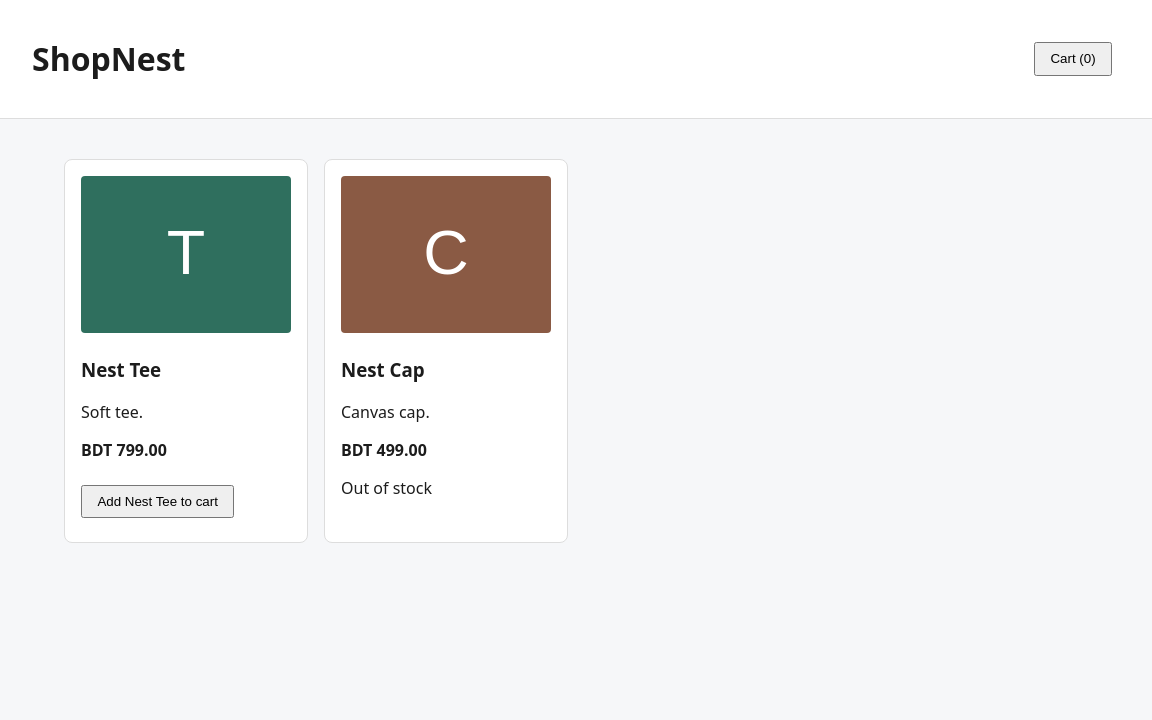
Scenario: cart and checkout flow › updates the cart count and shows the total
Click the button "Add Nest Tee to cart" at x=158, y=502, box [81,485,234,518]
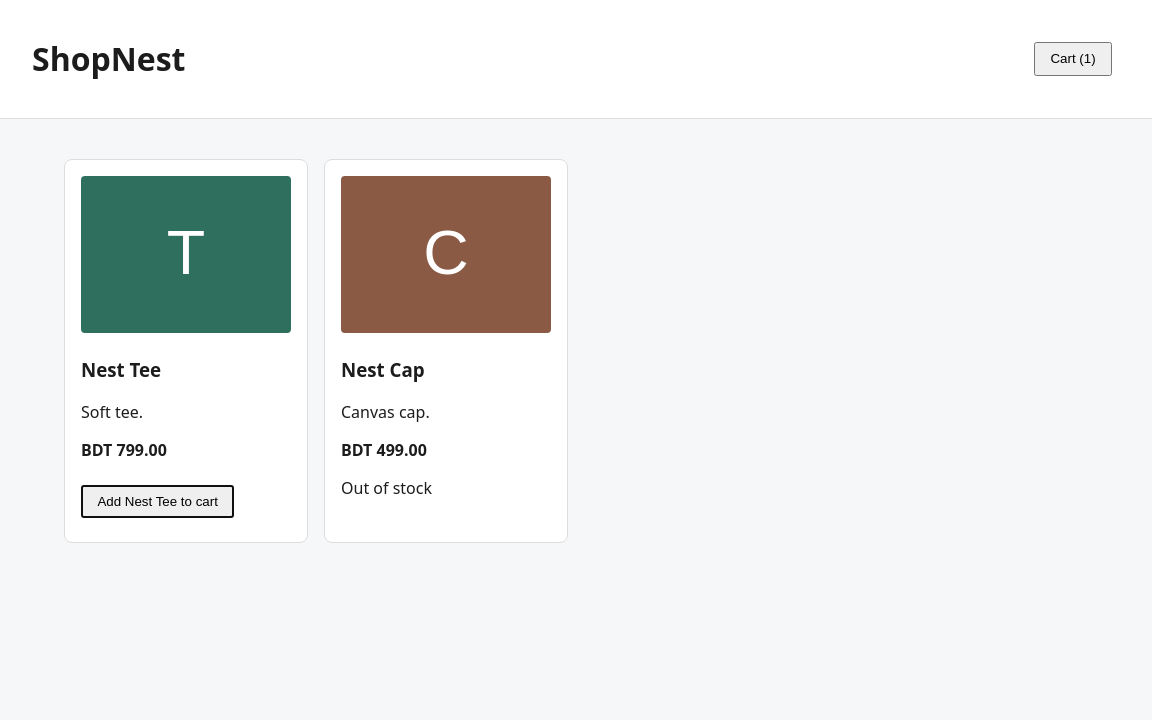
Click the button "Cart (1)" at x=1073, y=59, box [1034,42,1112,76]
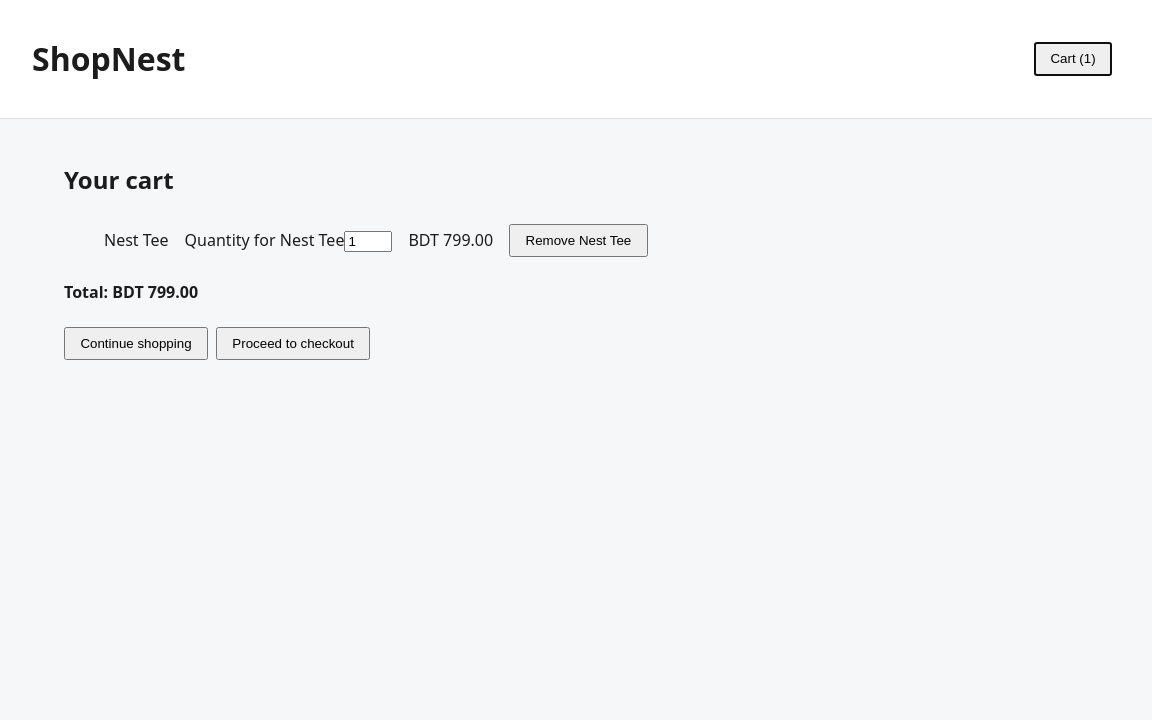
Now the text "Total: BDT 799.00" is shown, box [64,281,198,303]
